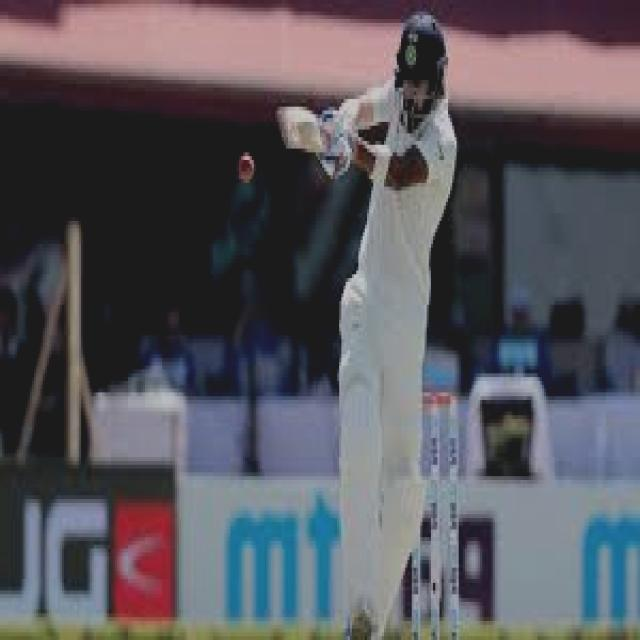toe: (275, 104, 309, 156)
